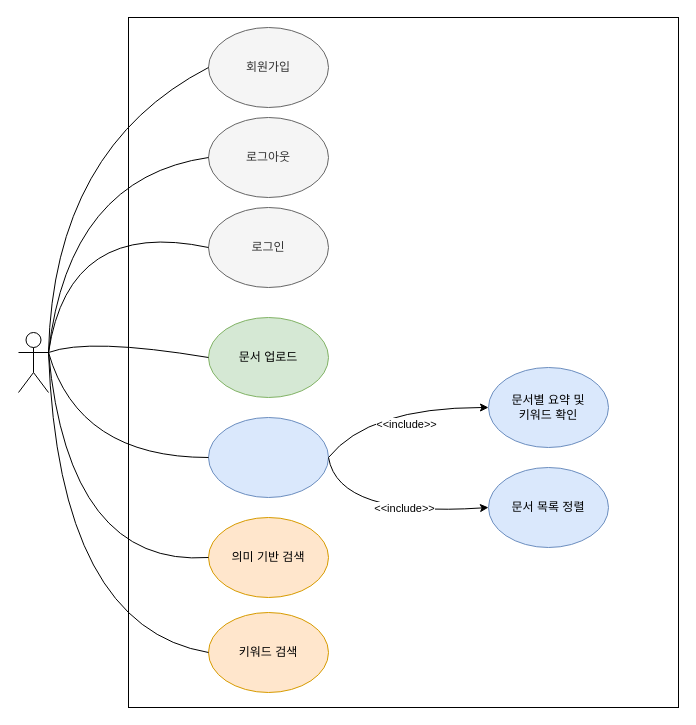
This 696x725 diagram has some shape labels left out. The shapes that lost their labels are listed below. From the top down, each one's box as (x1, y1, x2, y2) in pixels, then its label:
(18, 332, 48, 392): 사용자
(208, 416, 328, 498): 문서 목록 조회
